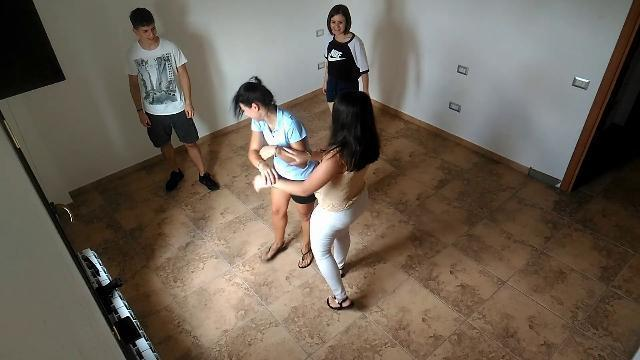non-violence: (128, 8, 220, 192), (316, 0, 370, 160)
violence: (232, 79, 384, 313)
